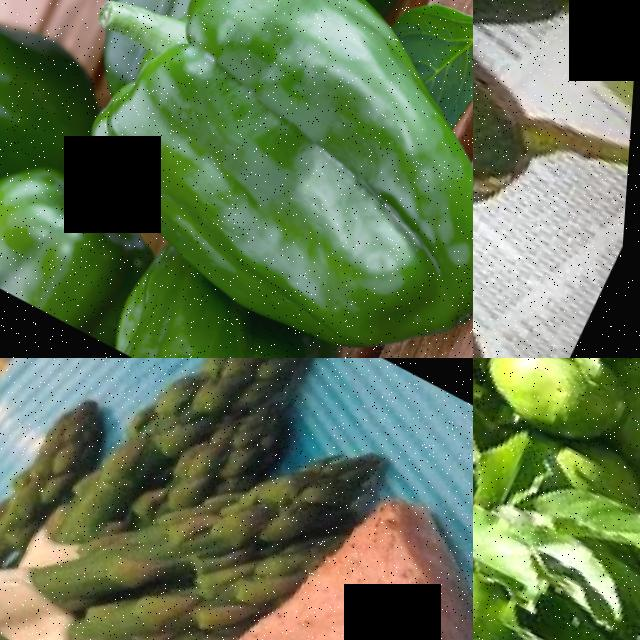asparagus: (96, 444, 265, 640), (0, 375, 106, 566), (144, 358, 271, 457)
avocado: (473, 0, 571, 300), (476, 358, 640, 455), (473, 80, 527, 358), (473, 0, 614, 86), (540, 410, 640, 524), (473, 493, 548, 640), (581, 358, 640, 455)
bell pepper: (84, 0, 473, 358)
